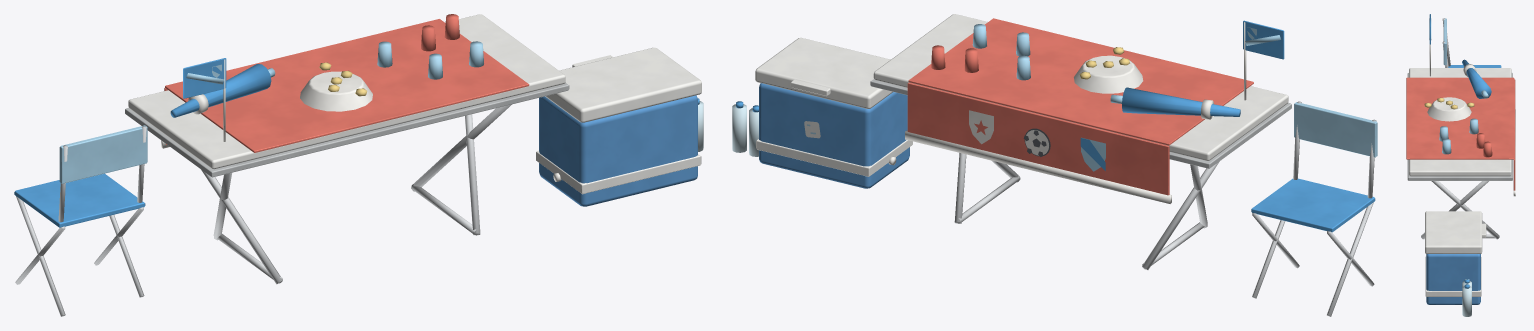
File: Jogo_FanTable.fbx
The picture shows the model from 3 angles, left to right: view 1: azimuth 30°, elevation 25°; view 2: azimuth 150°, elevation 25°; view 3: azimuth 270°, elevation 25°; orthographic projection. The views are drawn at different scales.
Visible parts, largest first — view 1: Jogo_FanTable; view 2: Jogo_FanTable; view 3: Jogo_FanTable.
Boxes of the visible parts, left/top/right/bottom form: Jogo_FanTable: left=14, top=14, right=703, bottom=316; Jogo_FanTable: left=732, top=14, right=1377, bottom=316; Jogo_FanTable: left=1406, top=14, right=1515, bottom=316.
Size of the model in its own units: 3.35 by 1.15 by 0.828.
Materials: 1 (1 with a texture image).
